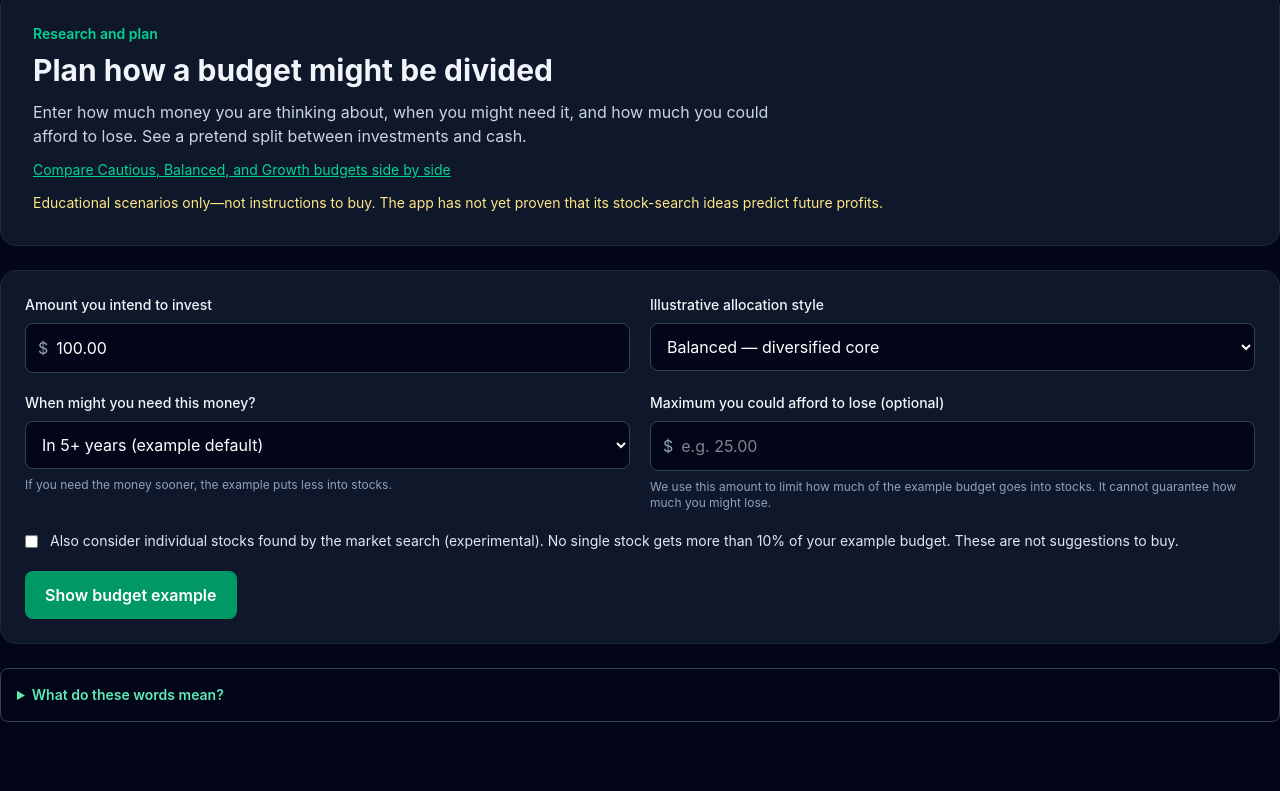
Test case: BudgetPlannerPage › explains losses under the stress scenarios
This screenshot has width=1280, height=791.
What coordinates should you click on to do the following:
click the button "Show budget example"
I would click on:
 (131, 595)
Its box is [25, 571, 236, 619].
(page scrolled)
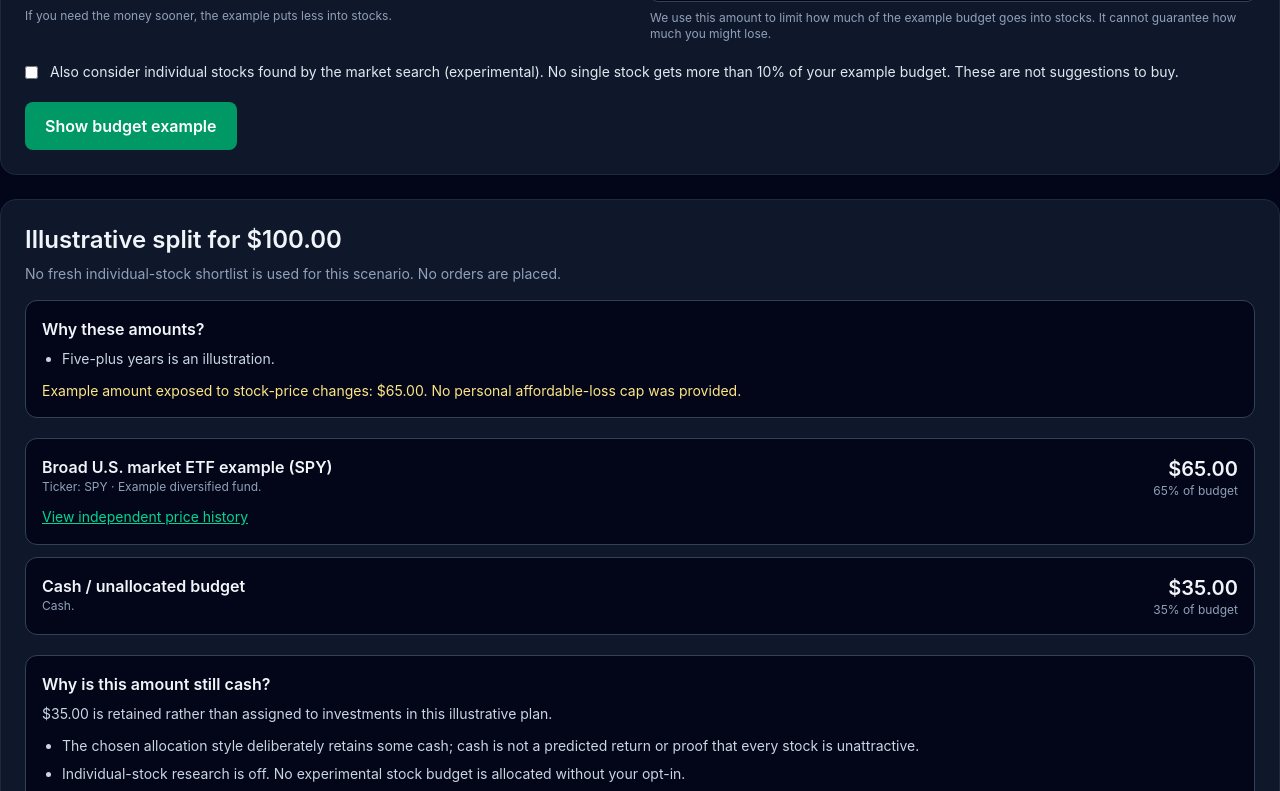
Result: the text "No personal affordable-loss cap was provided." is shown at [428, 382, 741, 399]
